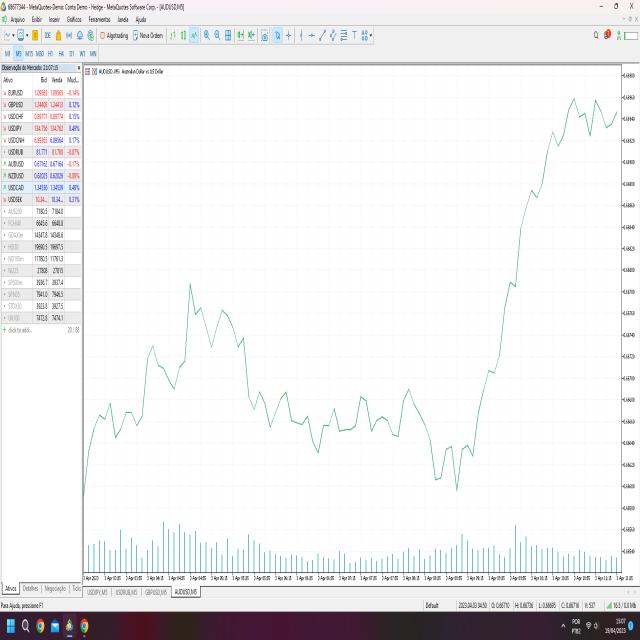oco_inv: (411, 403, 486, 501)
